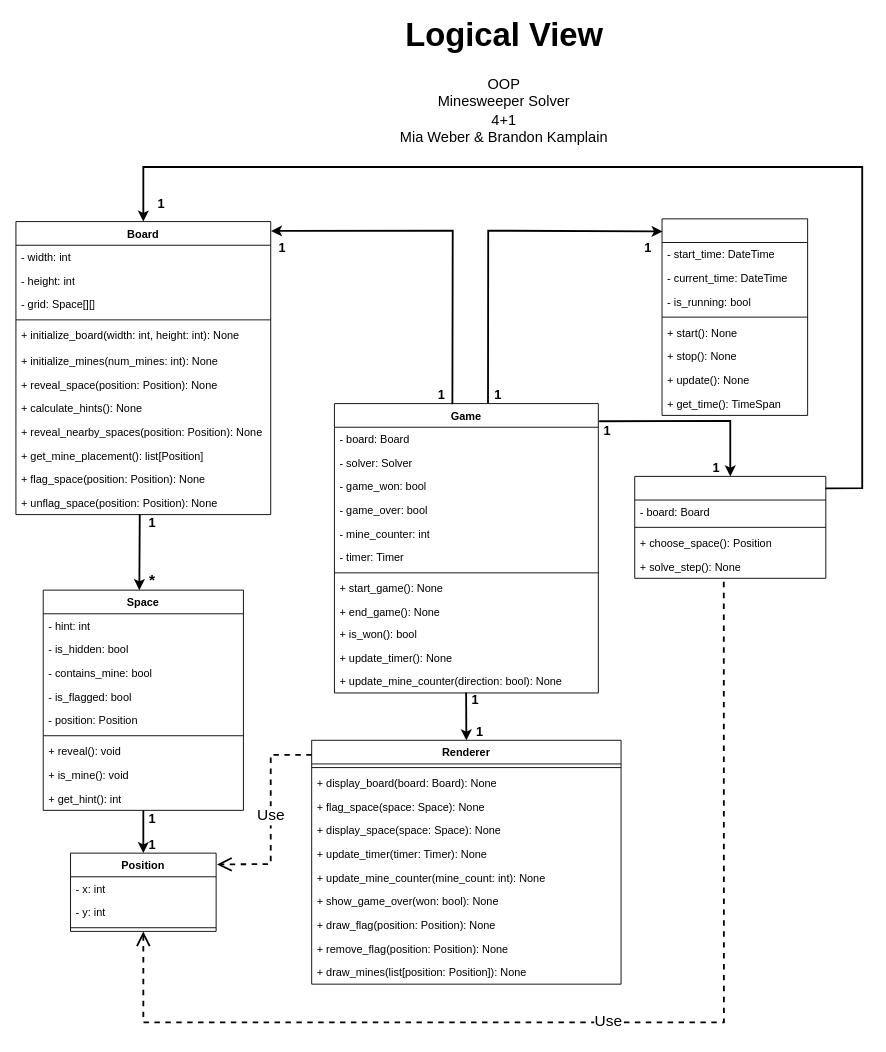
Image size: 886x1052. Some labels were removed from this diagram. The box of each missing label's shape, as (x1, y1, x2, y2) in pixels:
Solver: (634, 475, 826, 578)
Timer: (661, 218, 808, 415)
